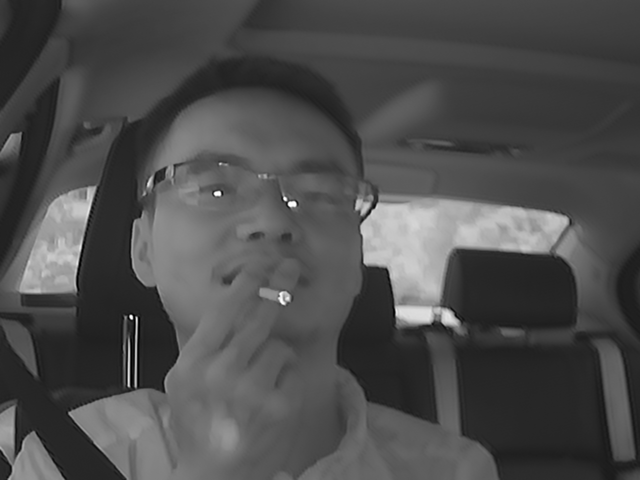hand: (163, 261, 309, 444)
